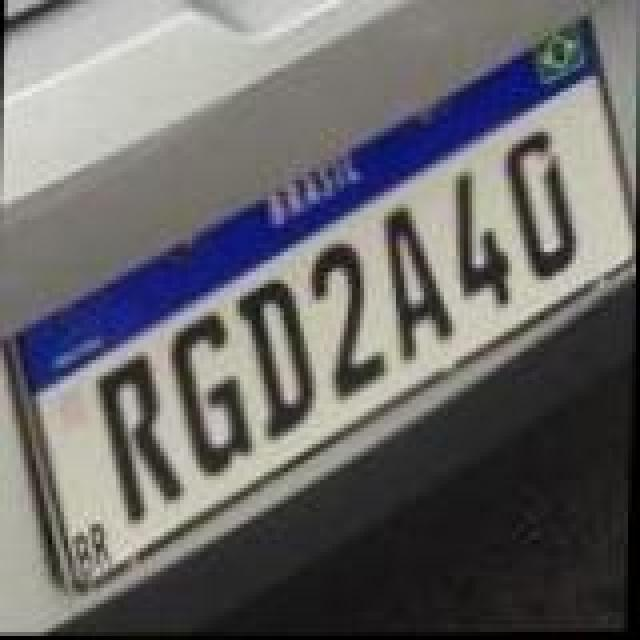2: (304, 244, 392, 404)
4: (456, 172, 520, 316)
A: (380, 206, 460, 366)
D: (230, 280, 322, 440), (502, 128, 586, 284)
G: (166, 314, 262, 478)
R: (90, 348, 190, 520)
